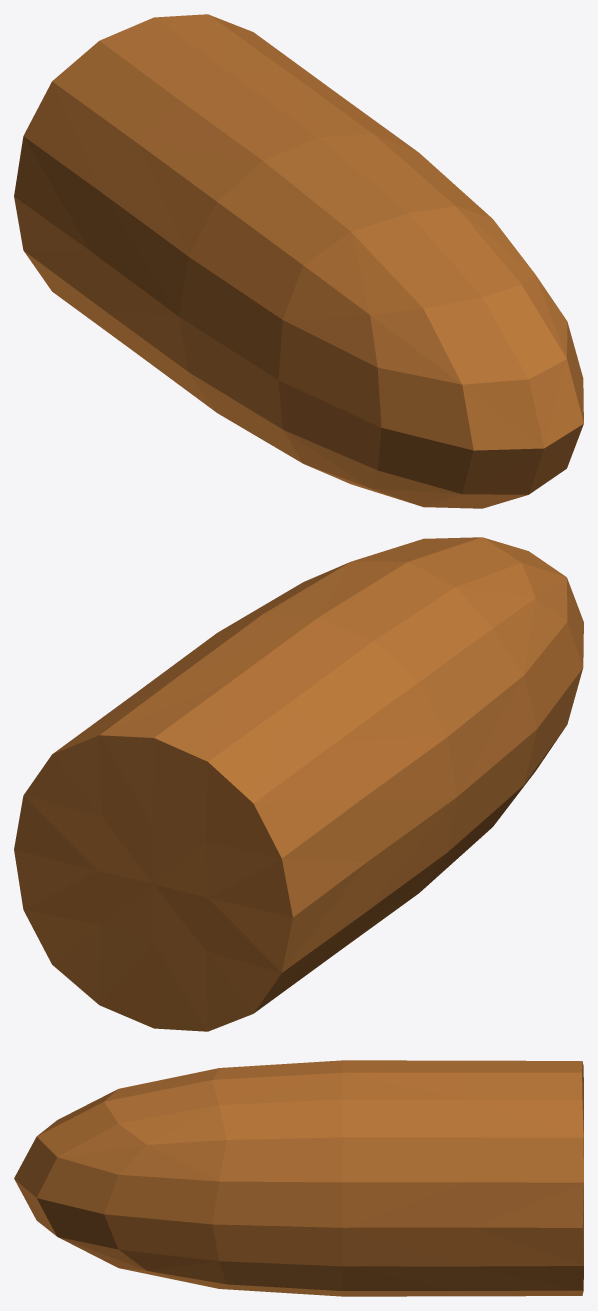
Rendered from PlayerBullet.obj.
3 views of the same model, one above another, from view 1: azimuth 30°, elevation 25°; view 2: azimuth 150°, elevation 25°; view 3: azimuth 270°, elevation 25° (orthographic). The views are drawn at different scales.
Parts seen in each view (by area): view 1: 立方体; view 2: 立方体; view 3: 立方体.
Boxes of the visible parts, left/top/right/bottom form: 立方体: left=14, top=14, right=583, bottom=508; 立方体: left=14, top=537, right=583, bottom=1031; 立方体: left=14, top=1060, right=583, bottom=1296.
Bounding box in the file's own units: 0.5055 × 0.5037 × 1.23.
1 material, 1 textured.
